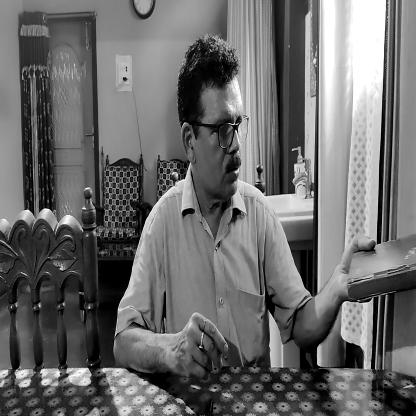Distracted: (192, 71, 254, 225)
